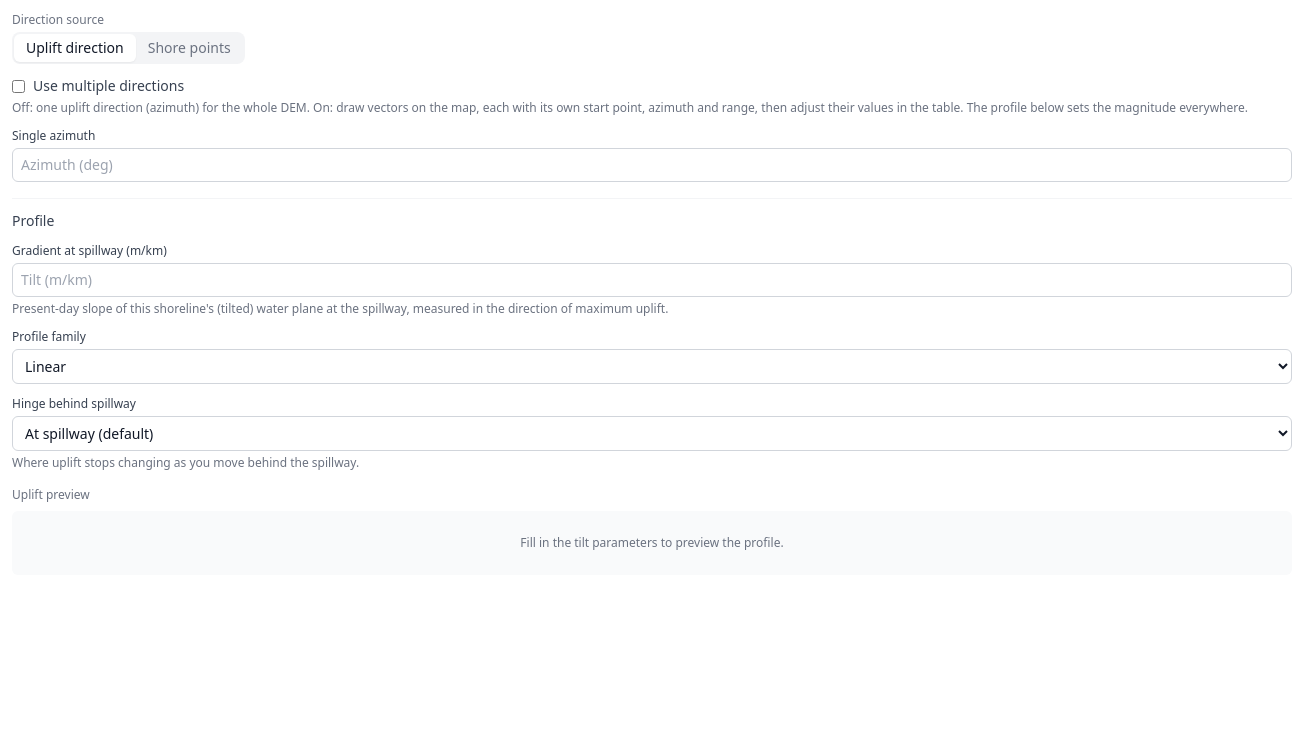
Scenario: TiltModelBody › quadratic: a rate of increase (m/km per km), required, with its help; no second-gradient form
Select "Quadratic" in the dropdown labelled "Profile family" at (652, 366), box [12,349,1292,384]
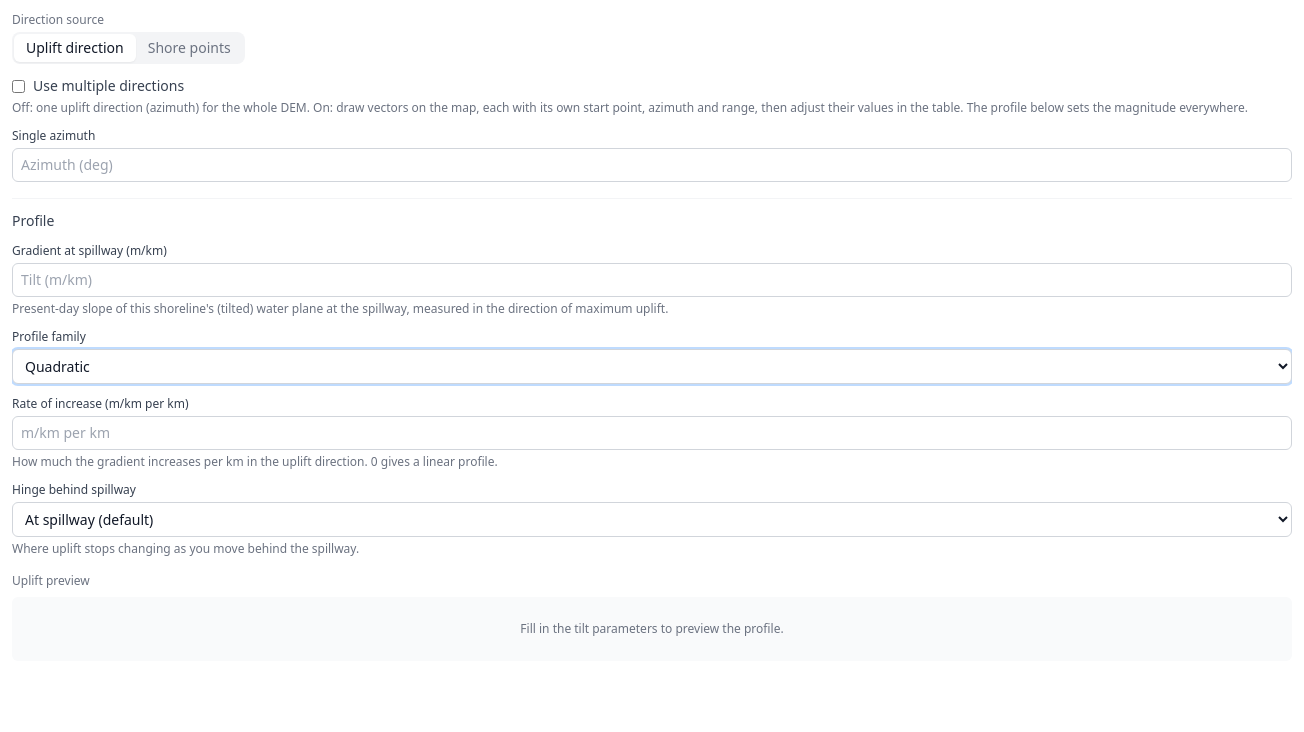
Now the text "0 gives a linear profile" is shown, box [12,453,498,470]
